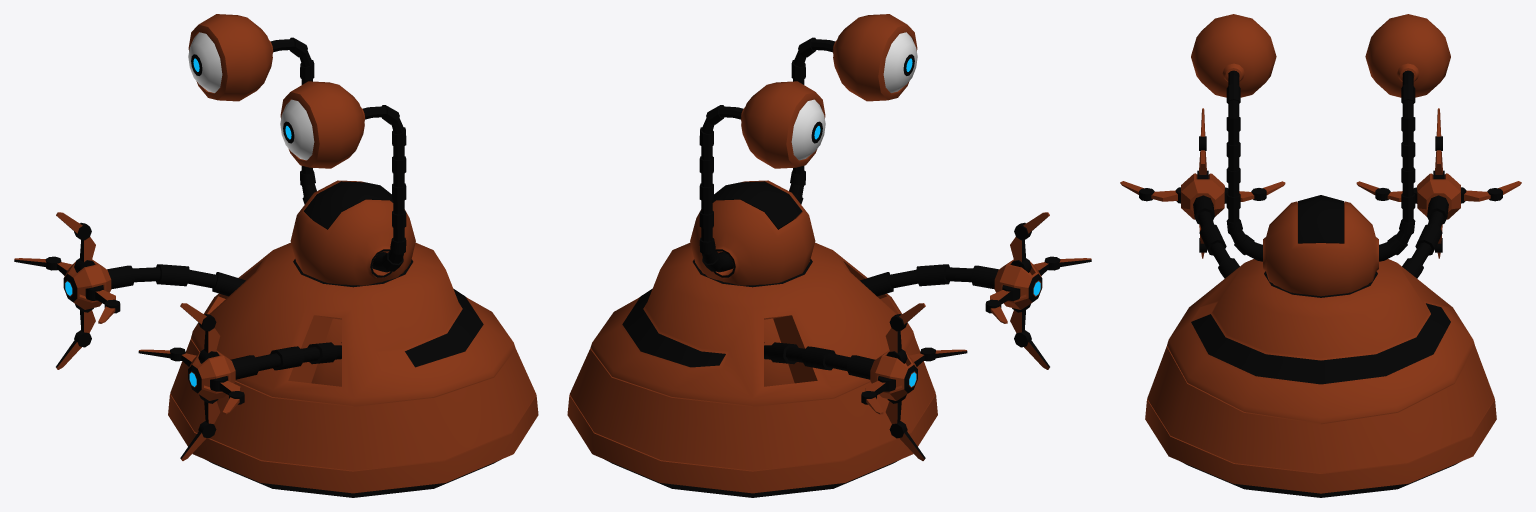
Rendered from min20.FBX.
The picture shows the model from 3 angles, left to right: view 1: azimuth 30°, elevation 25°; view 2: azimuth 150°, elevation 25°; view 3: azimuth 270°, elevation 25°; orthographic projection. The views are drawn at different scales.
Visible parts, largest first — view 1: body, head, L eye01, R eye, R Hand, R Hand01; view 2: body, head, R eye, L eye01, R Hand01, R Hand; view 3: body, head, R eye, L eye01, R Hand, R Hand01.
Part boxes in pixels (box(x1,y1,x2,y2)): body: box(168, 242, 538, 497); head: box(290, 180, 415, 285); L eye01: box(280, 81, 406, 272); R eye: box(188, 14, 316, 204); R Hand: box(14, 212, 245, 369); R Hand01: box(138, 303, 341, 460); body: box(567, 242, 937, 497); head: box(690, 180, 815, 285); R eye: box(699, 81, 825, 272); L eye01: box(789, 14, 917, 204); R Hand01: box(860, 212, 1091, 369); R Hand: box(764, 303, 967, 460); body: box(1145, 259, 1496, 497); head: box(1263, 195, 1378, 296); R eye: box(1365, 14, 1450, 261); L eye01: box(1191, 14, 1276, 261); R Hand: box(1356, 108, 1521, 278); R Hand01: box(1120, 108, 1285, 278).
Size of the model in its own units: 27.41 by 26.42 by 25.38.
